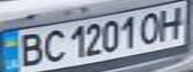0: (100, 17, 124, 53)
1: (118, 12, 142, 48), (66, 22, 87, 60)
2: (81, 20, 106, 56)
B: (12, 30, 48, 69)
C: (36, 28, 69, 64)
H: (154, 3, 190, 41)
O: (136, 9, 166, 45)
